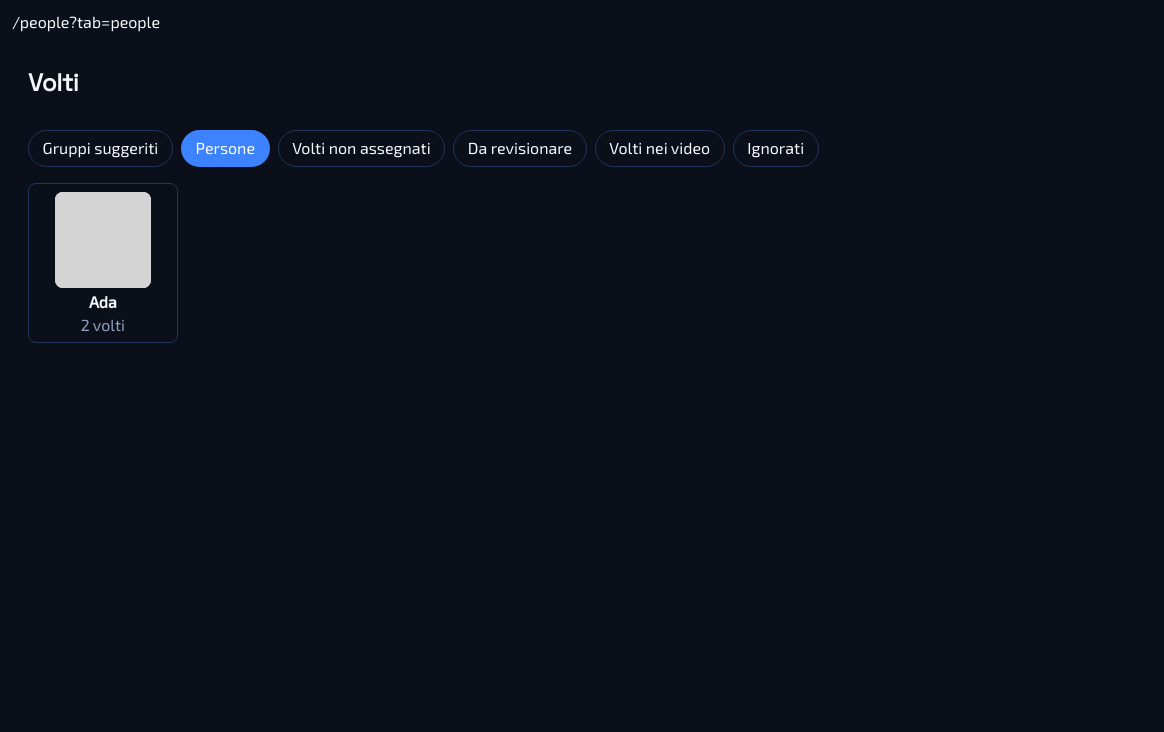
Test case: person detail return navigation › returns to the named People tab from the visible Back action
This screenshot has width=1164, height=732.
Click the link "Ada 2 volti". click: [103, 263]
box: x1=55 y1=192 x2=151 y2=334
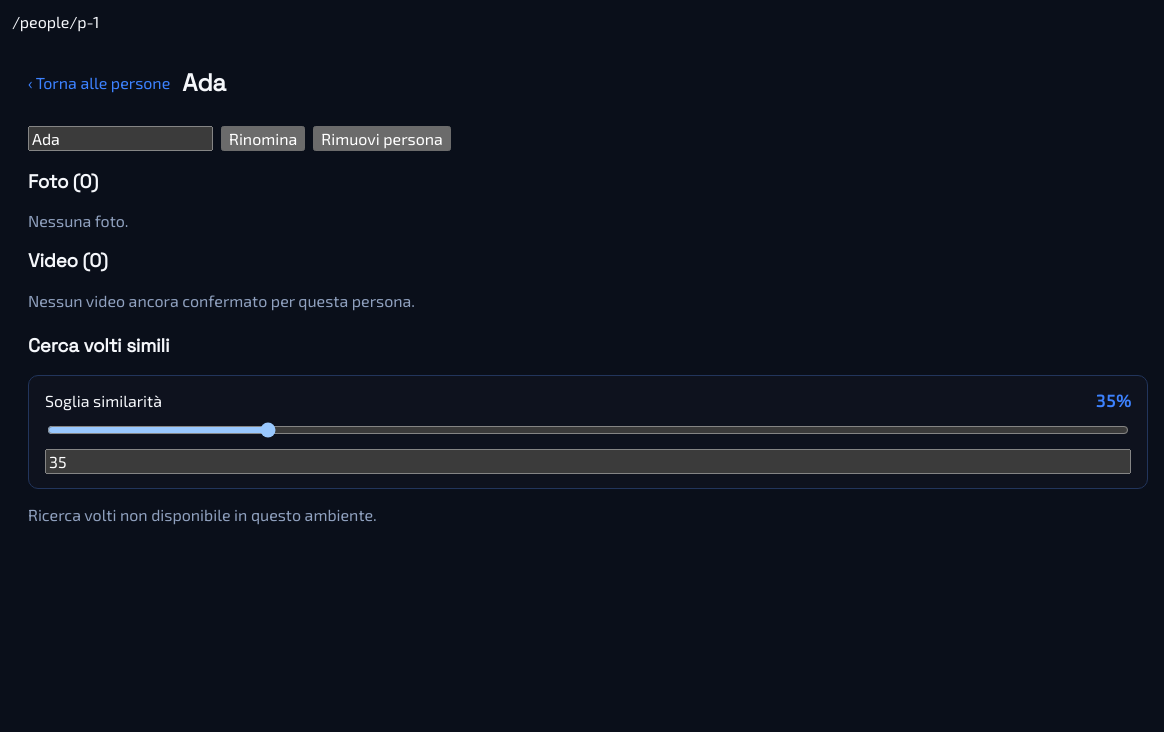
Expected: the text with test id "location" reads "/people/p-1", x1=12 y1=12 x2=100 y2=31
Click the link "‹ Torna alle persone". click: [99, 82]
box: x1=28 y1=73 x2=170 y2=92
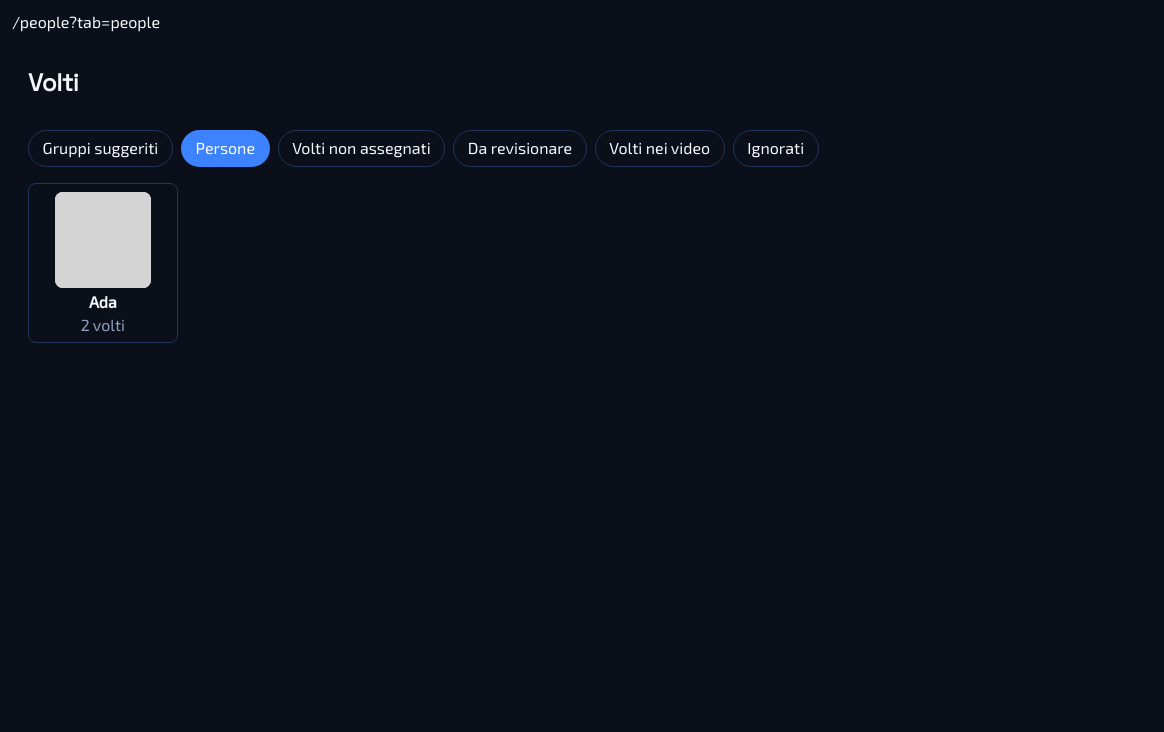
Expected: the text with test id "location" reads "/people?tab=people", x1=12 y1=12 x2=160 y2=31
